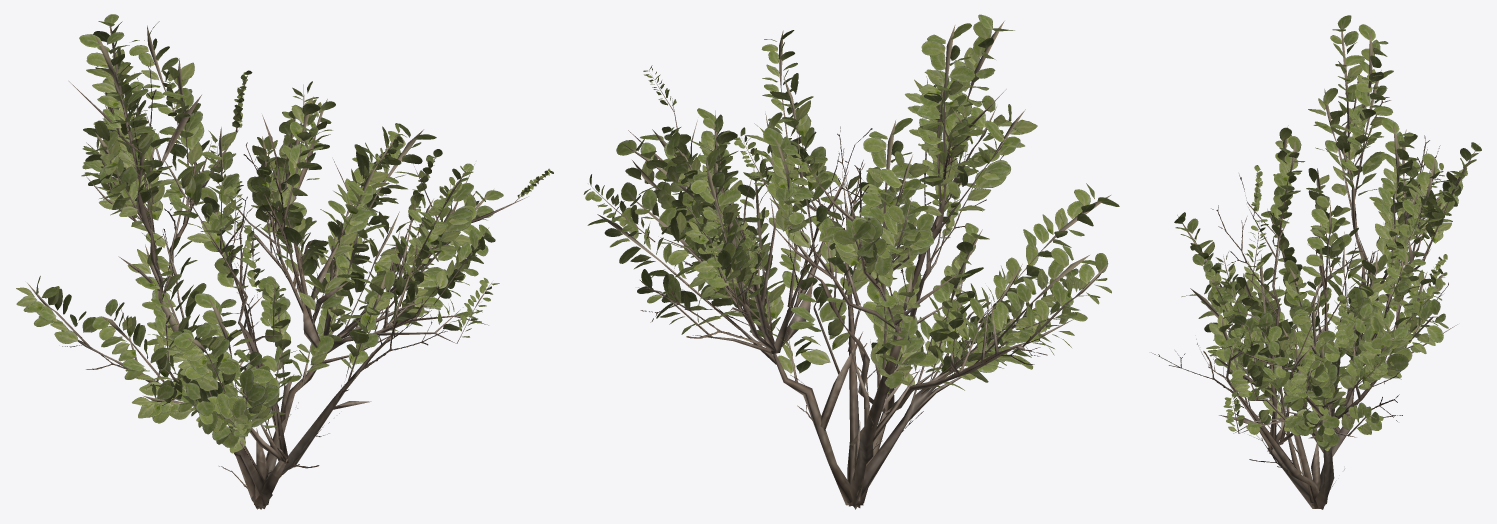
The model's file is searsia_lucida_e_LOD0.glb.
The picture shows the model from 3 angles, left to right: view 1: azimuth 30°, elevation 25°; view 2: azimuth 150°, elevation 25°; view 3: azimuth 270°, elevation 25°; orthographic projection. The views are drawn at different scales.
Visible parts, largest first — view 1: searsia_lucida_e_LOD0; view 2: searsia_lucida_e_LOD0; view 3: searsia_lucida_e_LOD0.
Boxes of the visible parts, box(x1,y1,x2,y2) form: searsia_lucida_e_LOD0: box(16, 14, 553, 509); searsia_lucida_e_LOD0: box(583, 14, 1119, 509); searsia_lucida_e_LOD0: box(1151, 15, 1481, 509).
Size of the model in its own units: 1.03 by 1.02 by 0.7157.
3 materials, 3 textured.
